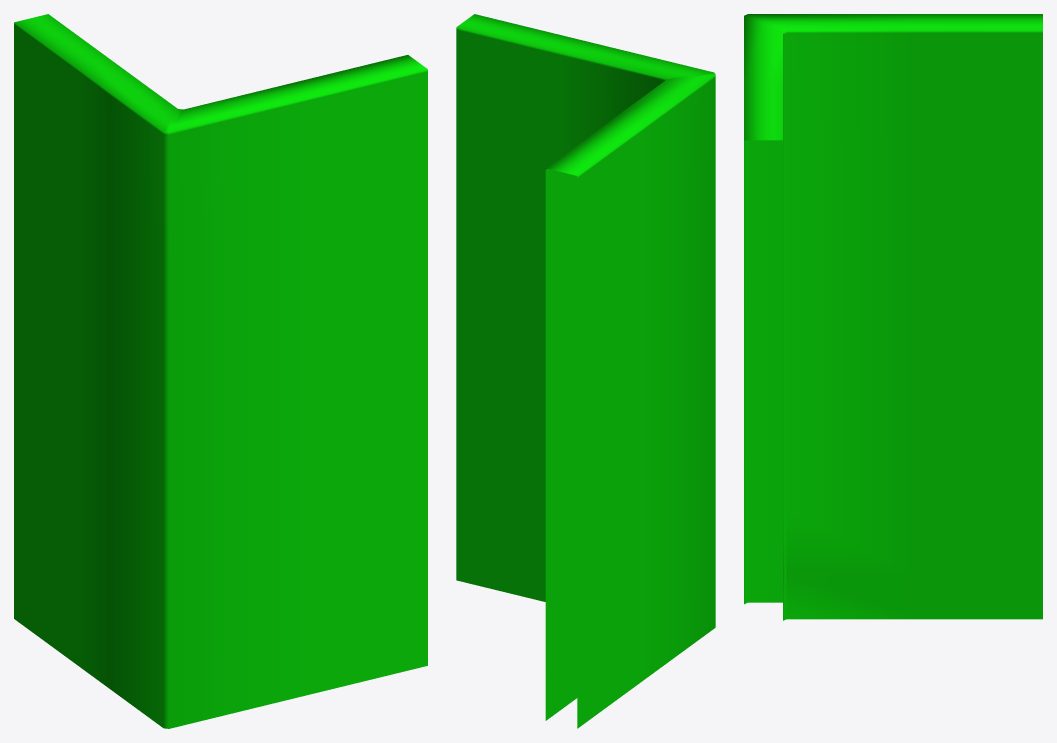
Rendered from Wall_Base_Corner.fbx.
3 renders of one model, left to right at view 1: azimuth 30°, elevation 25°; view 2: azimuth 150°, elevation 25°; view 3: azimuth 270°, elevation 25°, orthographic. The views are drawn at different scales.
Visible parts, largest first — view 1: Wall_Base_Corner; view 2: Wall_Base_Corner; view 3: Wall_Base_Corner.
Boxes of the visible parts, <box> form: Wall_Base_Corner: <box>14,14,427,728</box>; Wall_Base_Corner: <box>456,14,715,728</box>; Wall_Base_Corner: <box>744,14,1042,620</box>.
Bounding box in the file's own units: 115 × 250 × 115.
